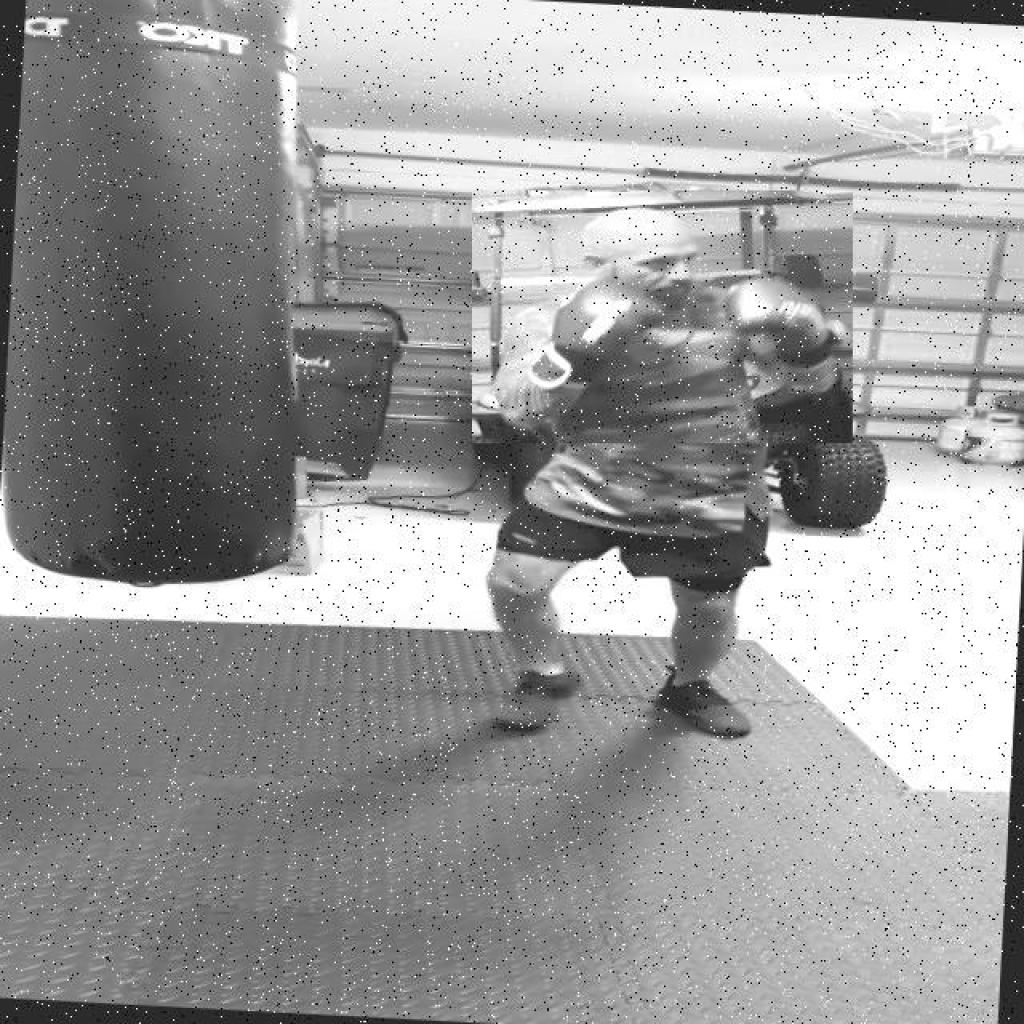bag: (0, 0, 307, 602)
no punch: (472, 190, 853, 444)
